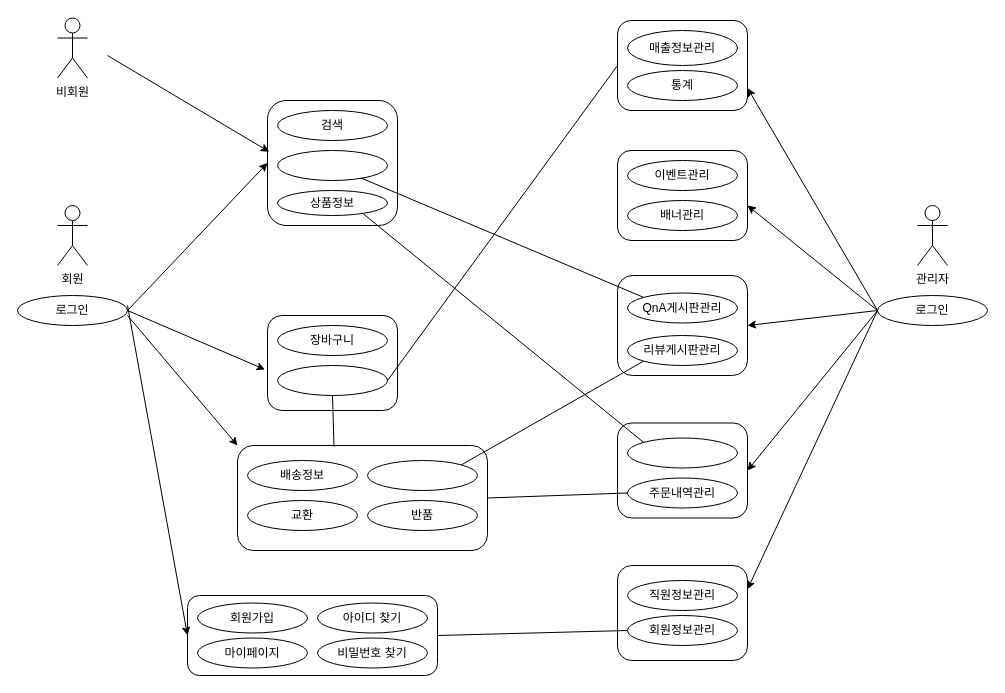
Some shapes in this 1005 by 693 pixel diagram are drawn without their labels. Here are the shapes that lost their labels. From the top down, the centre of each, then its label:
At (332,165): "상품문의".
At (332,380): "결제".
At (682,452): "상품정보관리".
At (422,475): "리뷰".
